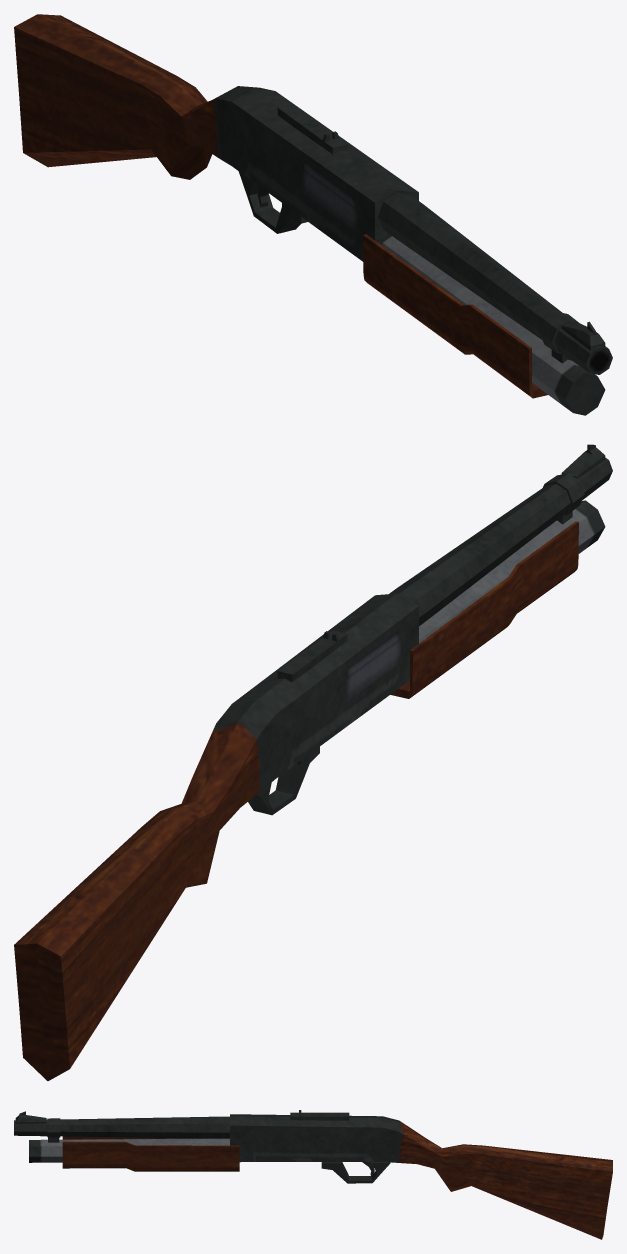
The picture shows the model from 3 angles, top to bottom: view 1: azimuth 30°, elevation 25°; view 2: azimuth 150°, elevation 25°; view 3: azimuth 270°, elevation 25°; orthographic projection. The views are drawn at different scales.
Visible parts, largest first — view 1: shotgun; view 2: shotgun; view 3: shotgun.
Part boxes in pixels (left/top/right/bottom): shotgun: left=14, top=14, right=612, bottom=415; shotgun: left=14, top=444, right=612, bottom=1080; shotgun: left=14, top=1110, right=612, bottom=1239.
Bounding box in the file's own units: 5.21 × 23.94 × 101.
